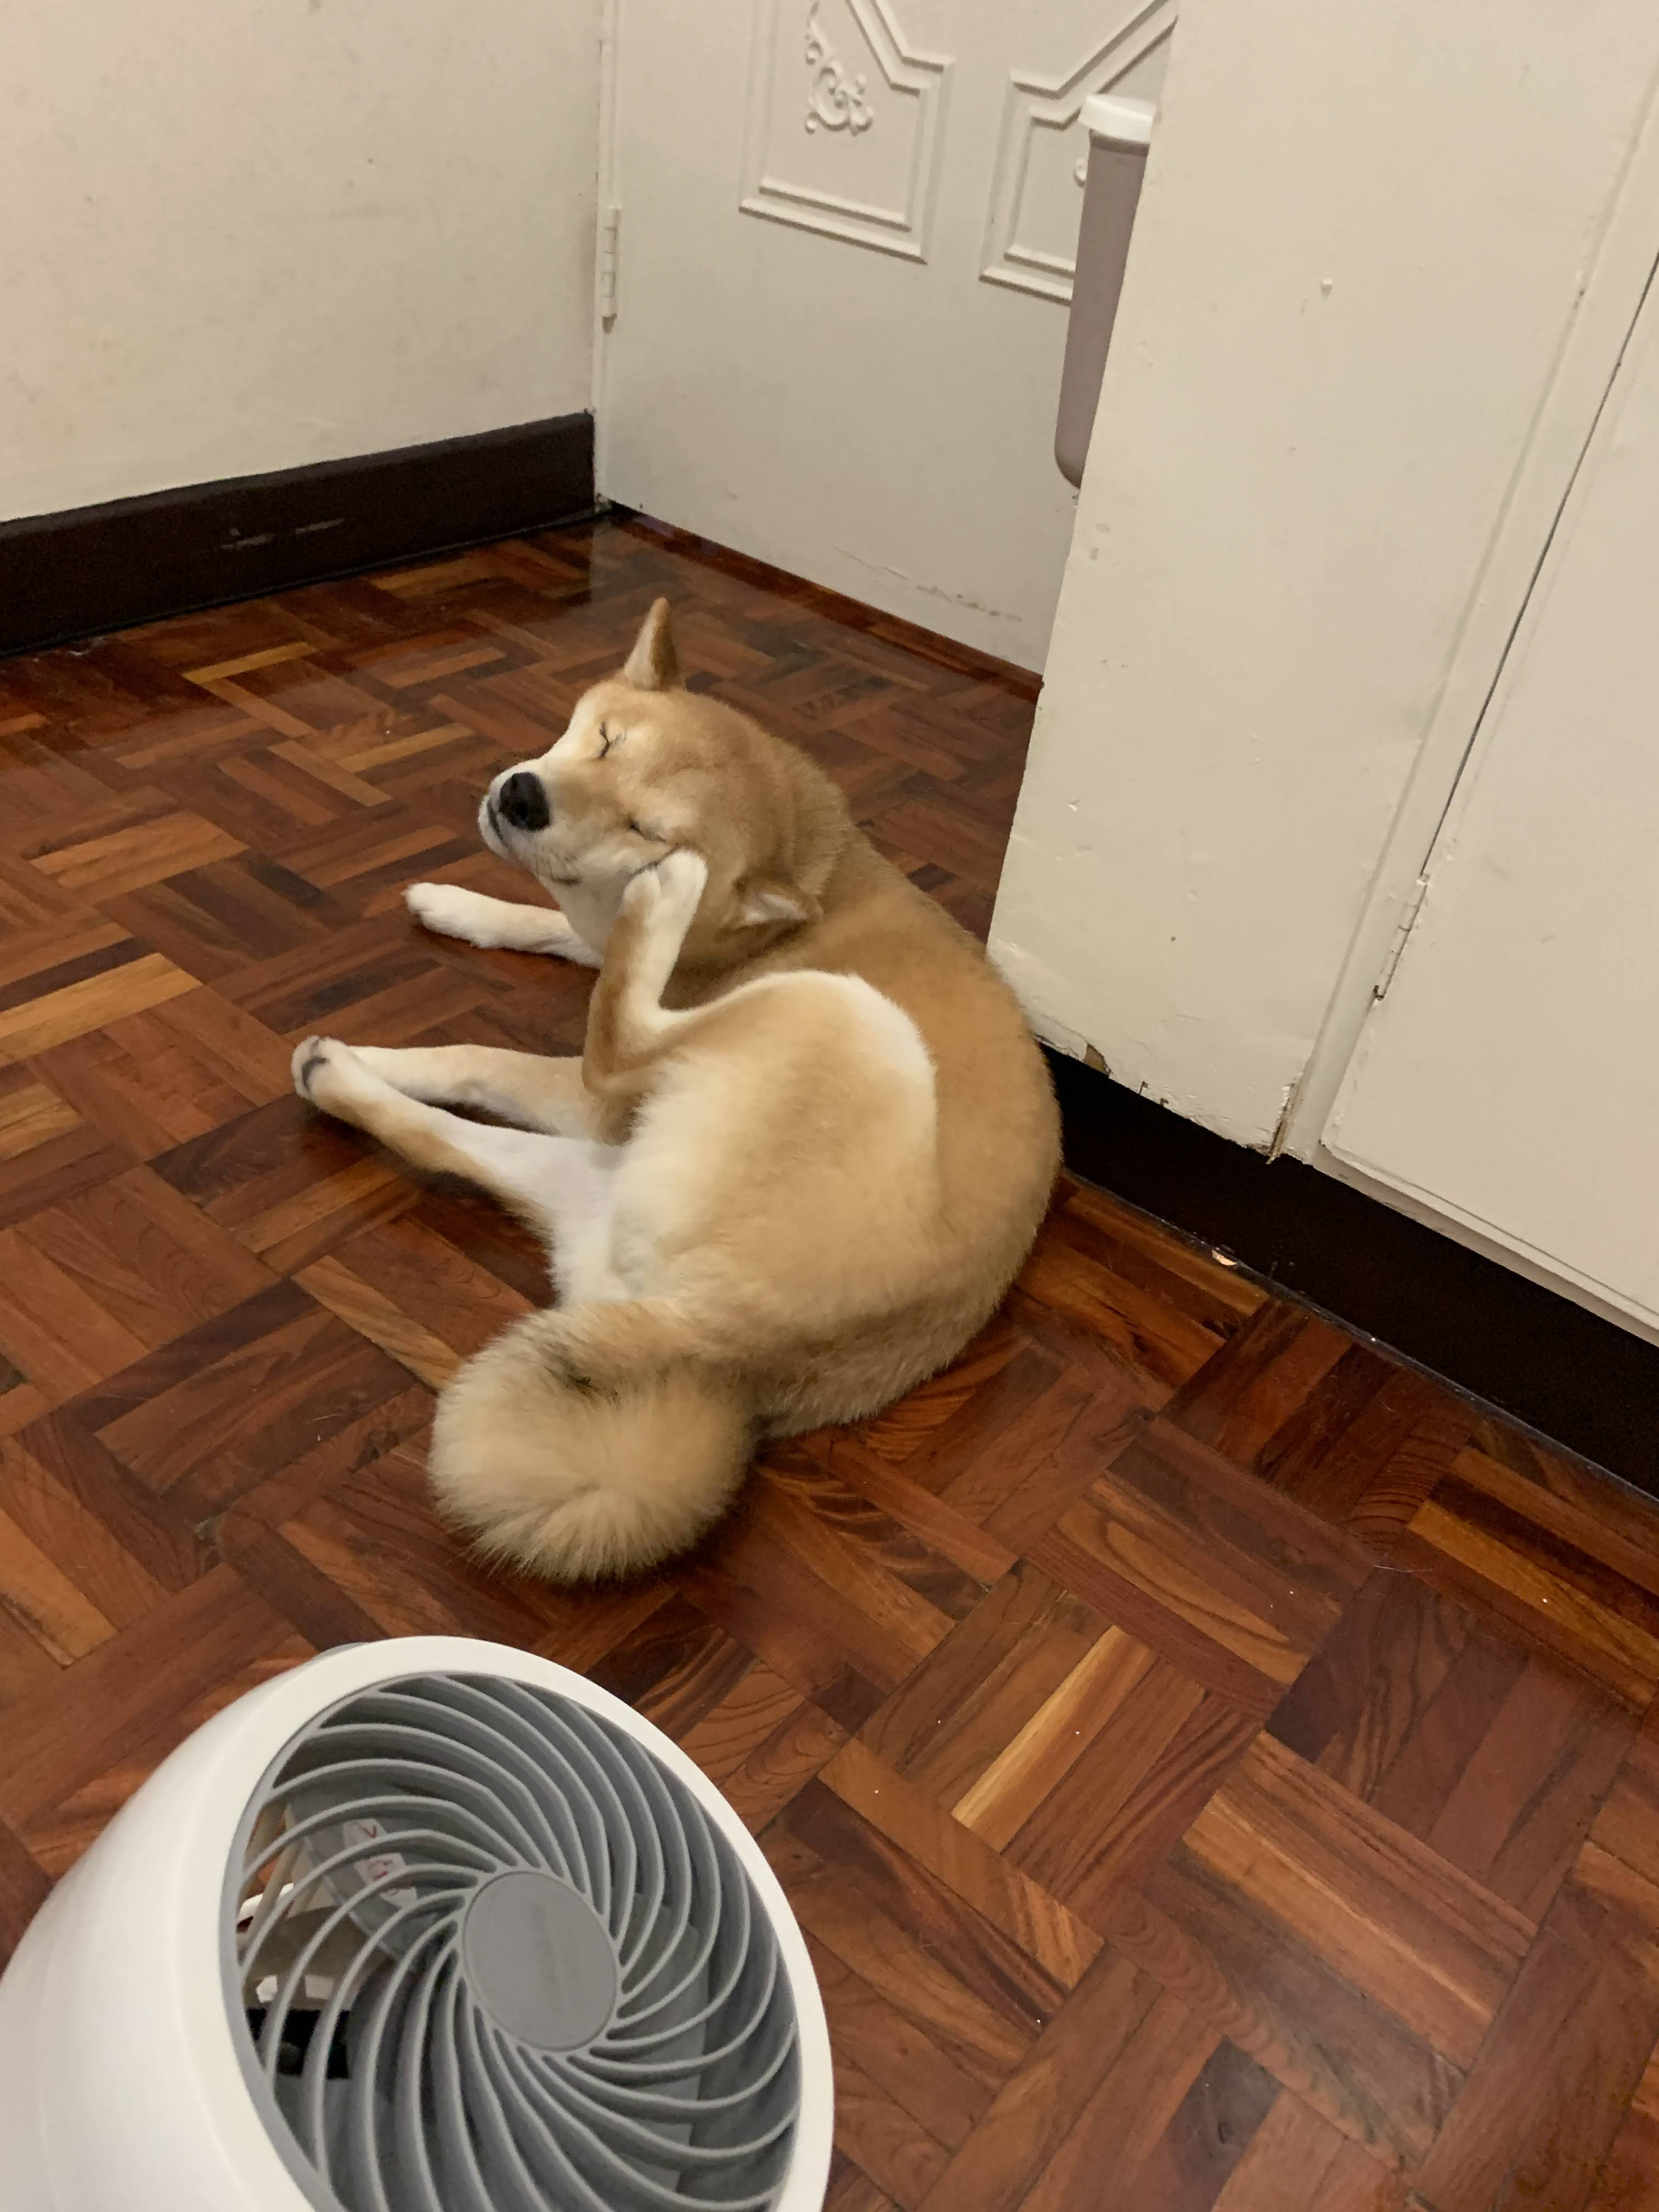Lie down: (288, 604, 1079, 1557)
